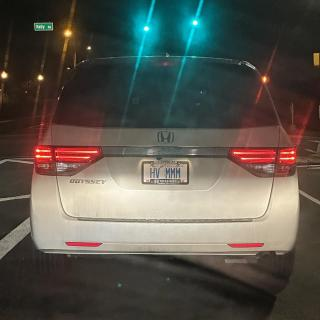license: (142, 162, 191, 186)
